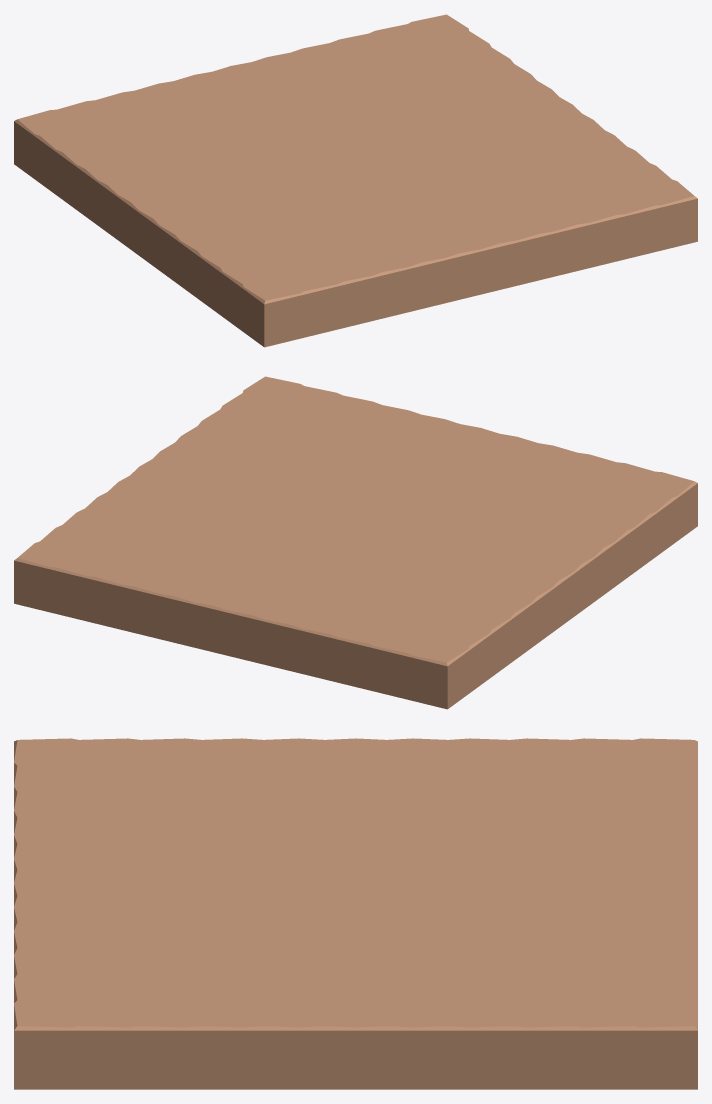
The model's file is mahsulot.glb.
3 views of the same model, one above another, from view 1: azimuth 30°, elevation 25°; view 2: azimuth 150°, elevation 25°; view 3: azimuth 270°, elevation 25° (orthographic). The views are drawn at different scales.
Visible parts, largest first — view 1: mahsulot_A; view 2: mahsulot_A; view 3: mahsulot_A.
Part boxes in pixels (x1,y1,x2,y2): mahsulot_A: [14, 14, 697, 347]; mahsulot_A: [14, 376, 697, 709]; mahsulot_A: [14, 738, 697, 1089].
Size of the model in its own units: 0.3 by 0.03 by 0.3.
